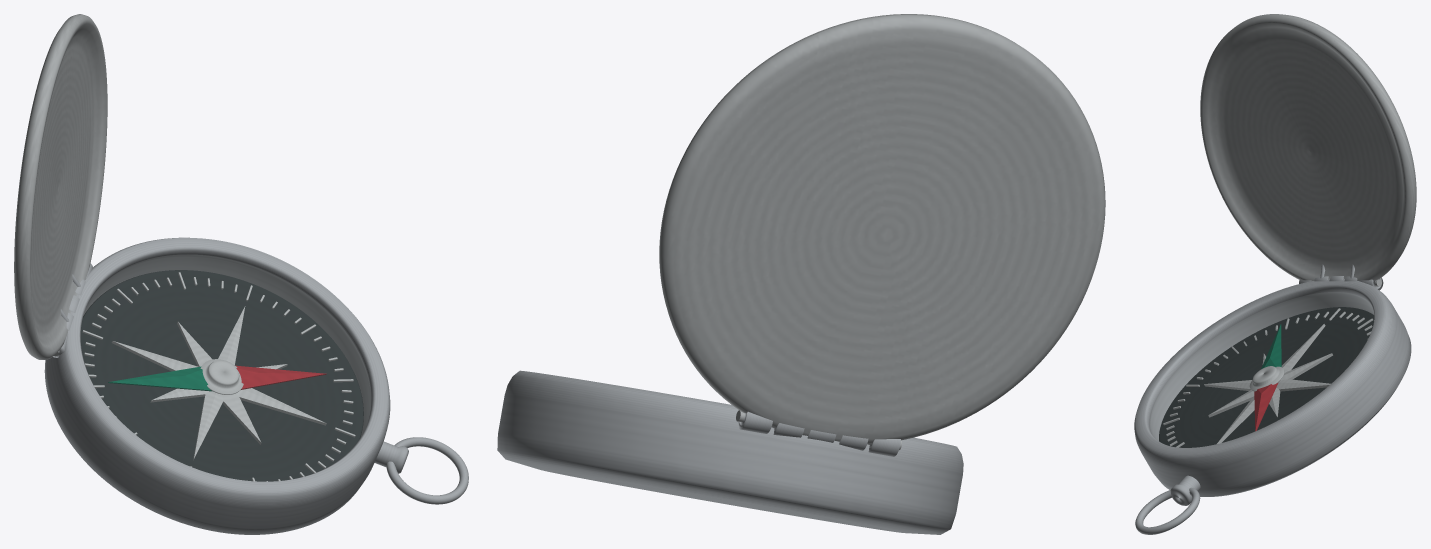
File: first-candidate.glb
The picture shows the model from 3 angles, left to right: view 1: azimuth 30°, elevation 25°; view 2: azimuth 150°, elevation 25°; view 3: azimuth 270°, elevation 25°; orthographic projection. The views are drawn at different scales.
Visible parts, largest first — view 1: C-Dial, C-Case, C-Lid, C-Rose, C-Bail, C-Needle-North, C-Pivot, C-Needle-South, C-Lug; view 2: C-Lid, C-Case; view 3: C-Lid, C-Case, C-Dial, C-Rose, C-Bail, C-Pivot, C-Needle-South, C-Lug, C-Needle-North.
Boxes of the visible parts, x1,y1,x2,y2 form: C-Dial: (80, 270, 363, 481); C-Case: (44, 237, 390, 534); C-Lid: (14, 14, 107, 359); C-Rose: (111, 306, 326, 460); C-Bail: (386, 437, 468, 504); C-Needle-North: (108, 366, 212, 391); C-Pivot: (200, 359, 243, 394); C-Needle-South: (235, 365, 326, 389); C-Lug: (374, 441, 408, 473); C-Lid: (659, 14, 1105, 444); C-Case: (497, 370, 963, 534); C-Lid: (1200, 14, 1416, 281); C-Case: (1134, 279, 1411, 496); C-Dial: (1159, 307, 1374, 447); C-Rose: (1204, 324, 1332, 443); C-Bail: (1135, 487, 1200, 534); C-Pivot: (1249, 366, 1284, 391); C-Needle-South: (1254, 382, 1278, 431); C-Lug: (1170, 475, 1200, 505); C-Needle-North: (1261, 324, 1281, 369).
Bounding box in the file's own units: 3.03 × 3.2 × 2.08.
6 materials, 5 textured.
